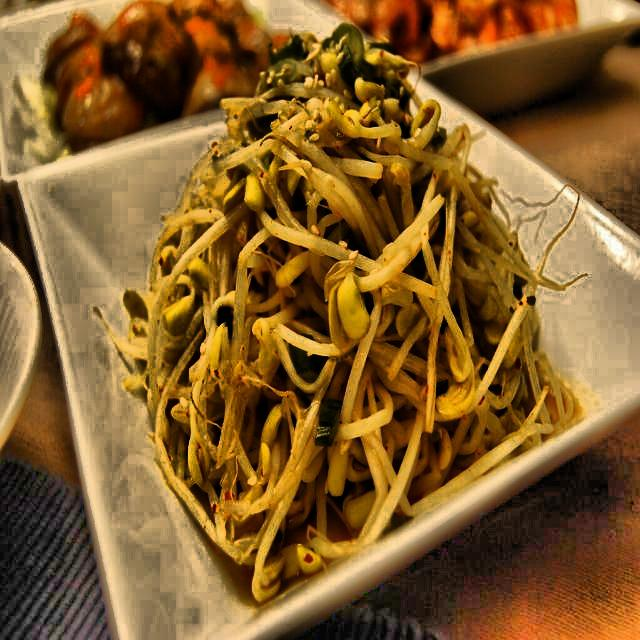Food: (90, 28, 580, 608)
